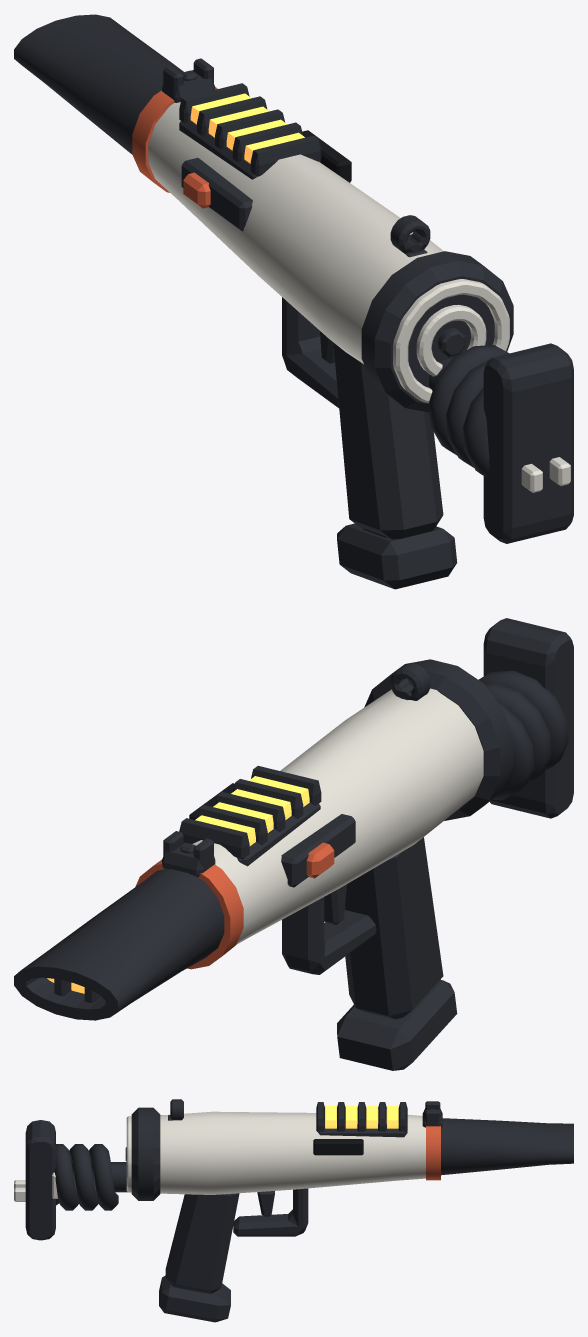
File: w_smg@smg_uzi.glb
The picture shows the model from 3 angles, top to bottom: view 1: azimuth 30°, elevation 25°; view 2: azimuth 150°, elevation 25°; view 3: azimuth 270°, elevation 25°; orthographic projection. The views are drawn at different scales.
Visible parts, largest first — view 1: body_wzA, stock_wzB, grip_wzB, barrel_wzB, intake_wzB, vent_wzB, intake_wzA, mag_wzB, guard_wzB, sight_wzN, track_wzB, vent_wzN (+4 smaller); view 2: body_wzA, barrel_wzB, stock_wzB, grip_wzB, vent_wzB, mag_wzB, intake_wzB, guard_wzB, sight_wzN, body_wzN, track_wzB, vent_wzN (+1 smaller); view 3: body_wzA, stock_wzB, barrel_wzB, grip_wzB, intake_wzB, guard_wzB, mag_wzB, vent_wzB, vent_wzN, trim_wzN, body_wzN, sight_wzN (+2 smaller).
Boxes of the visible parts, box(x1,y1,x2,y2) form: body_wzA: box(148, 102, 443, 363); stock_wzB: box(429, 343, 573, 543); grip_wzB: box(333, 343, 443, 539); barrel_wzB: box(14, 14, 183, 154); intake_wzB: box(361, 251, 513, 412); vent_wzB: box(179, 83, 321, 179); intake_wzA: box(393, 279, 509, 402); mag_wzB: box(337, 523, 457, 589); guard_wzB: box(282, 297, 339, 408); sight_wzN: box(162, 58, 430, 257); track_wzB: box(181, 157, 252, 231); vent_wzN: box(190, 93, 304, 163); body_wzA: box(192, 688, 483, 944); barrel_wzB: box(14, 869, 224, 1020); stock_wzB: box(478, 618, 573, 818); grip_wzB: box(344, 837, 443, 1019); vent_wzB: box(179, 766, 321, 866); mag_wzB: box(337, 979, 457, 1070); intake_wzB: box(364, 659, 513, 820); guard_wzB: box(282, 884, 376, 974); sight_wzN: box(162, 663, 430, 877); body_wzN: box(135, 859, 243, 969); track_wzB: box(281, 814, 355, 887); vent_wzN: box(195, 776, 309, 846); body_wzA: box(160, 1111, 425, 1194); stock_wzB: box(25, 1120, 127, 1240); barrel_wzB: box(441, 1118, 573, 1175); grip_wzB: box(165, 1193, 239, 1293); intake_wzB: box(125, 1107, 160, 1200); guard_wzB: box(233, 1188, 308, 1236); mag_wzB: box(159, 1275, 230, 1322); vent_wzB: box(316, 1102, 407, 1137); vent_wzN: box(325, 1105, 398, 1128); trim_wzN: box(313, 1139, 363, 1155); body_wzN: box(426, 1126, 440, 1180); sight_wzN: box(168, 1099, 442, 1127).
Size of the model in its own units: 0.1098 by 0.2813 by 0.666.
